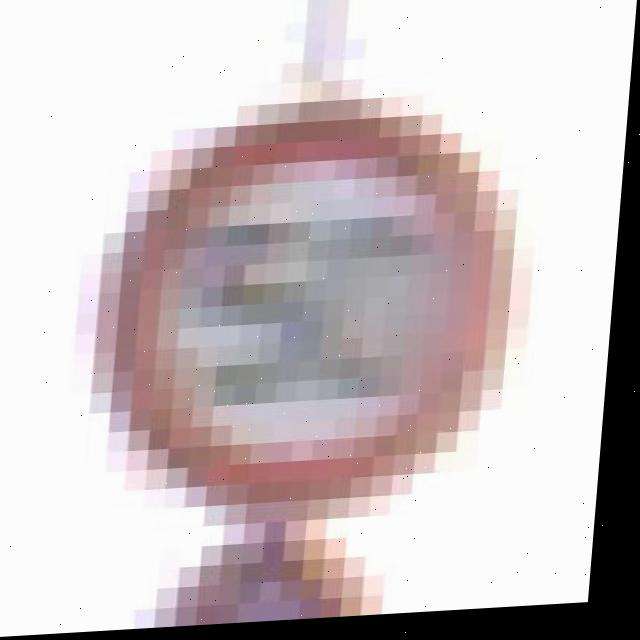Speed limit 50: (87, 88, 536, 525)
